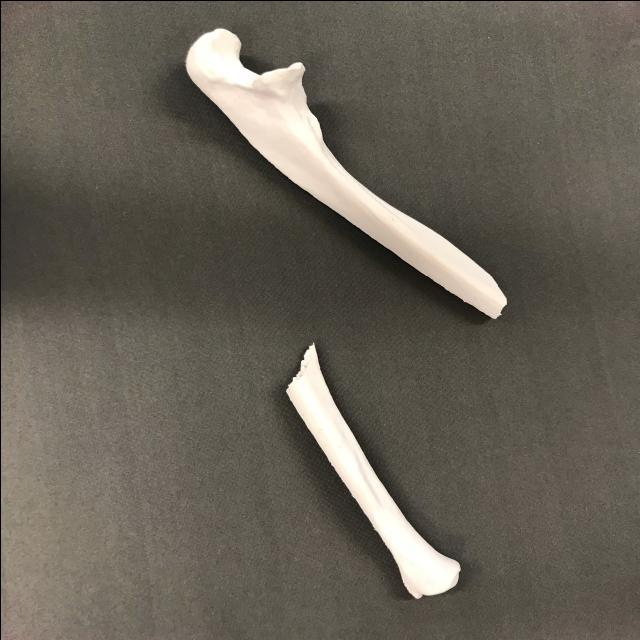bone: (176, 22, 518, 320), (275, 342, 474, 608)
